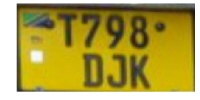T: (54, 9, 79, 48)
